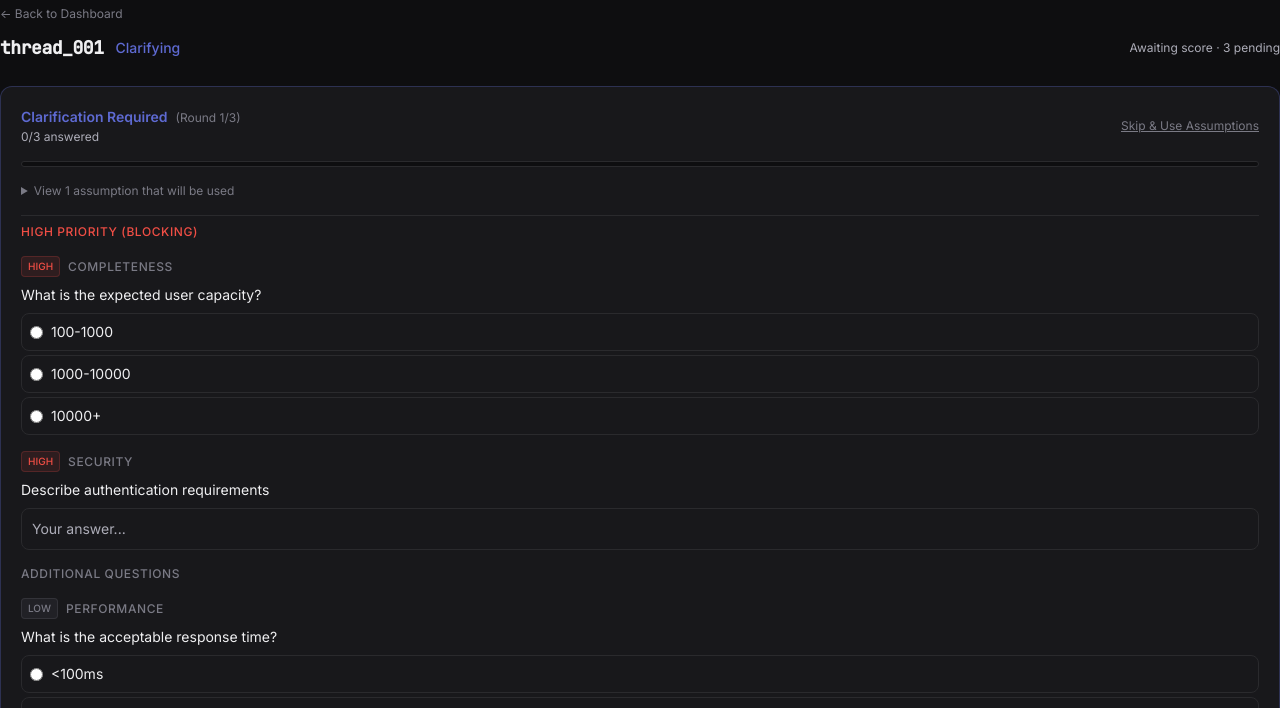
Scenario: ExecutionPage › Question Form › should enable submit when answers are provided
Type "Test answer" into the field with placeholder "Your answer..." at {"x": 640, "y": 529}, box [21,508,1259,550]
(page scrolled)
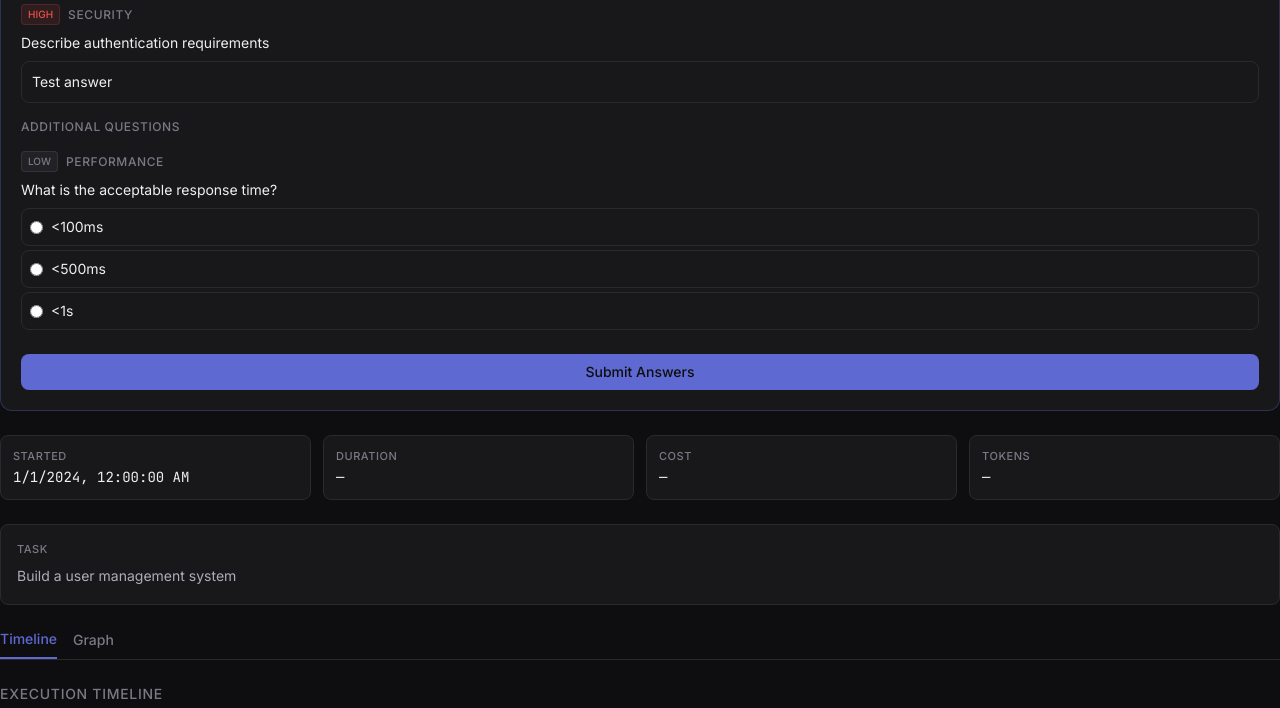
Expected: the button "Submit Answers" is enabled, [21,354,1259,390]
